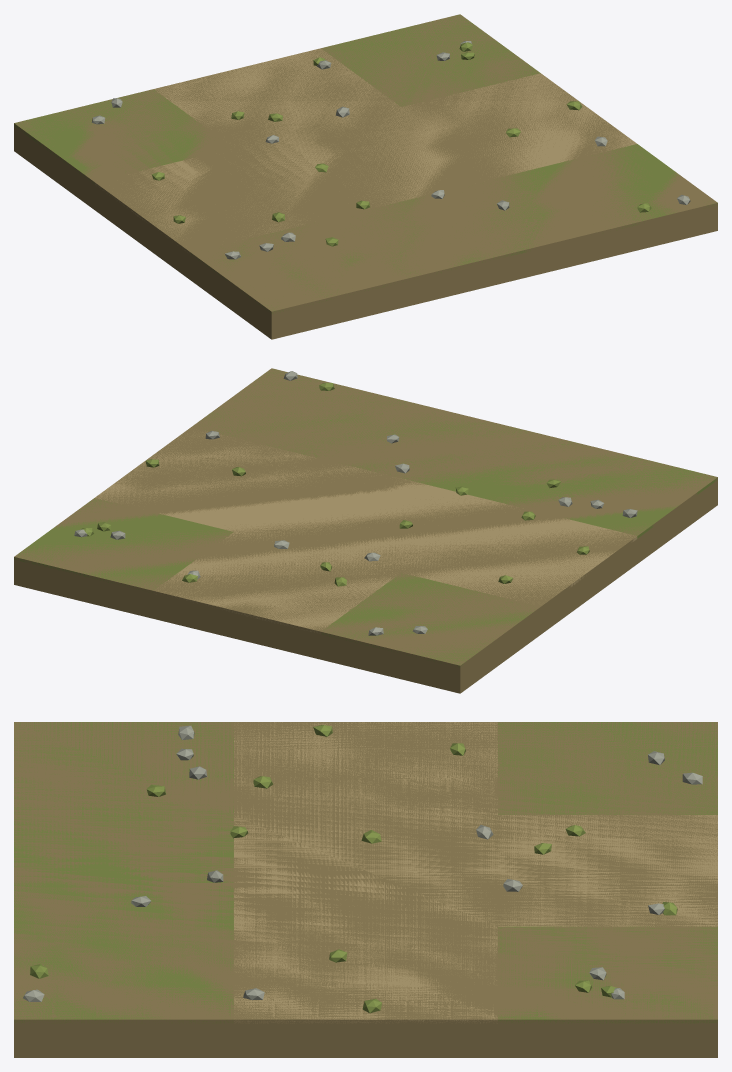
File: BP_Tile_Junction_4m.fbx
The picture shows the model from 3 angles, top to bottom: view 1: azimuth 30°, elevation 25°; view 2: azimuth 150°, elevation 25°; view 3: azimuth 270°, elevation 25°; orthographic projection. The views are drawn at different scales.
Visible parts, largest first — view 1: BP_Tile_Junction_4m; view 2: BP_Tile_Junction_4m; view 3: BP_Tile_Junction_4m.
Boxes of the visible parts, x1,y1,x2,y2 form: BP_Tile_Junction_4m: (14, 14, 717, 339); BP_Tile_Junction_4m: (14, 368, 717, 693); BP_Tile_Junction_4m: (14, 722, 717, 1057).
Size of the model in its own units: 400 by 31.57 by 400.
